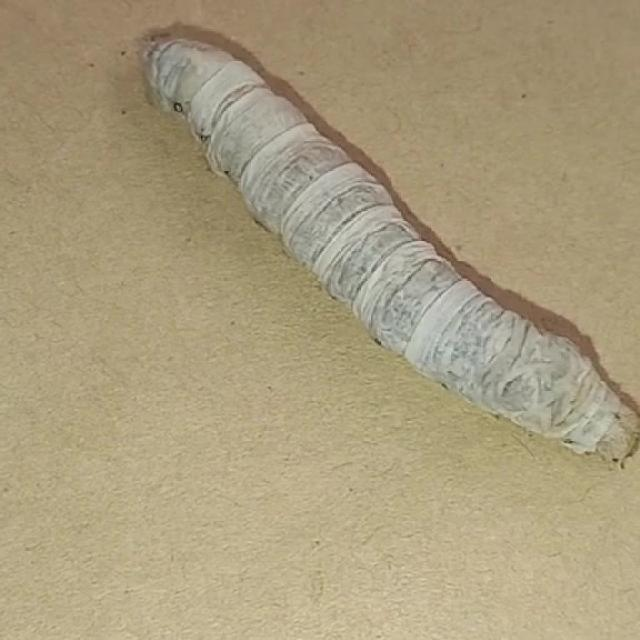Grasserie: (129, 17, 640, 488)
